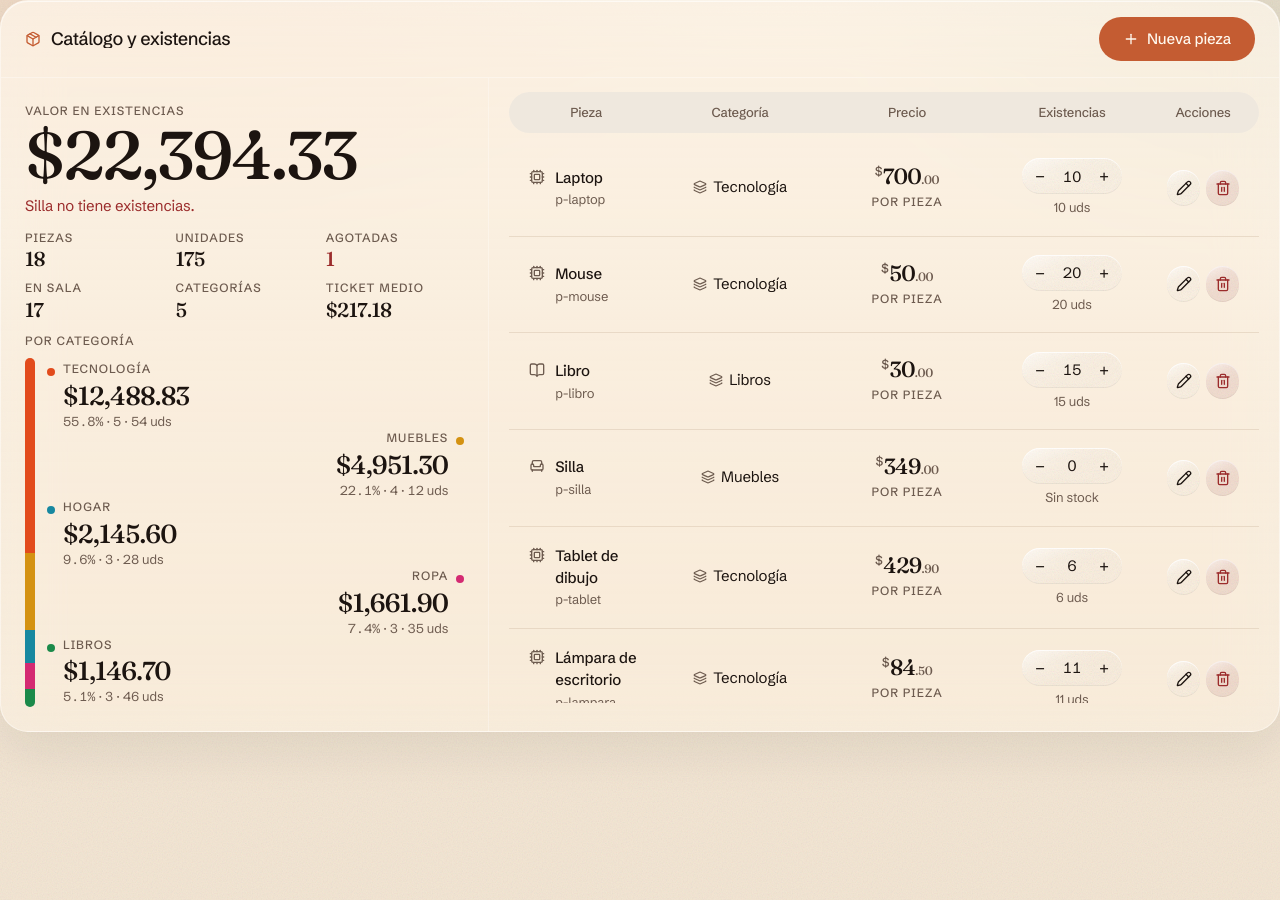
Scenario: ProductDesk › creates a piece that GET /products will expose
The image size is (1280, 900).
Expected: the text "p-laptop" is shown, 555,190 -> 605,209
Click the button "Nueva pieza" at (1177, 39), box 1099,17 -> 1255,61
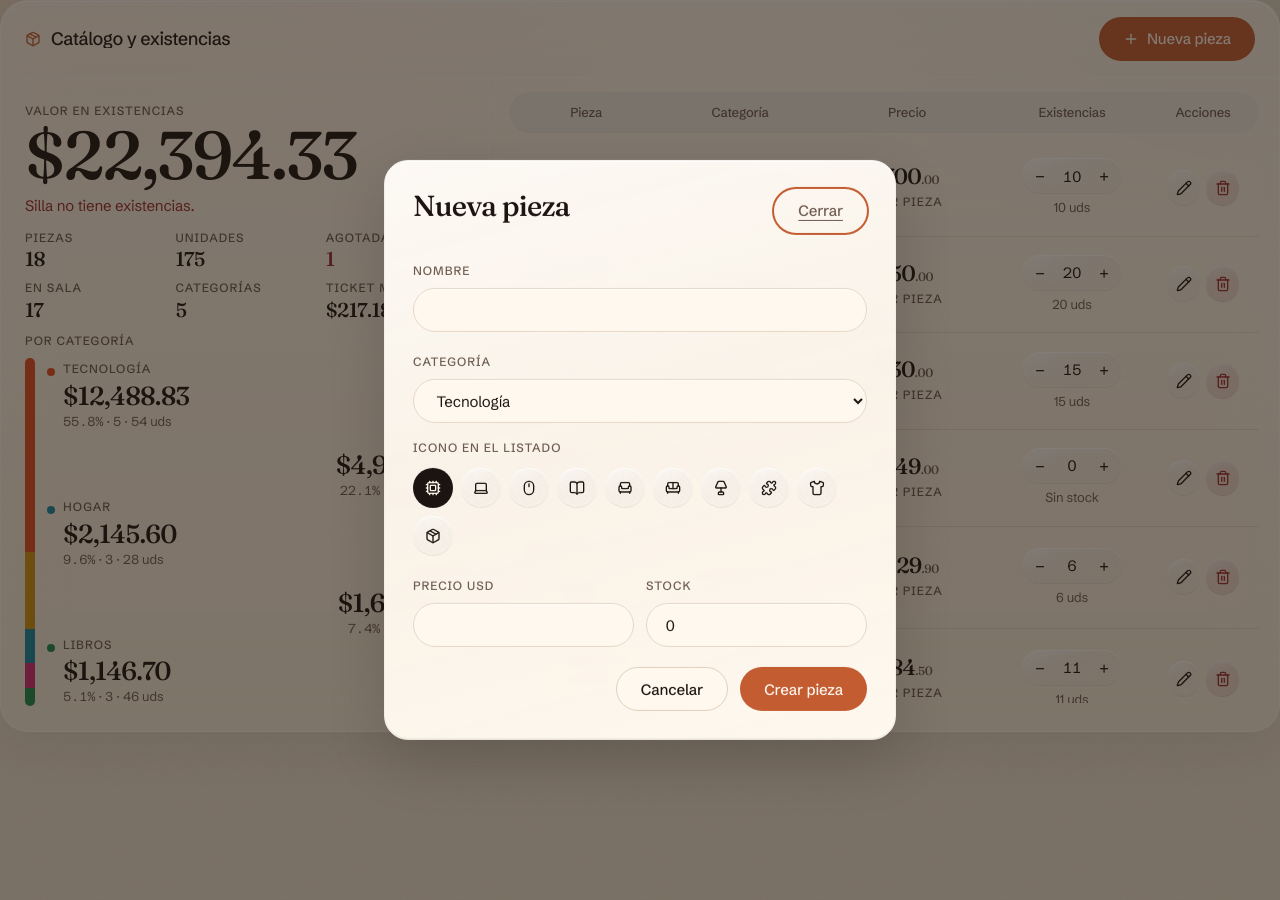
Type "Auriculares" into the field labelled "Nombre" at (640, 310), box 413,288 -> 867,332
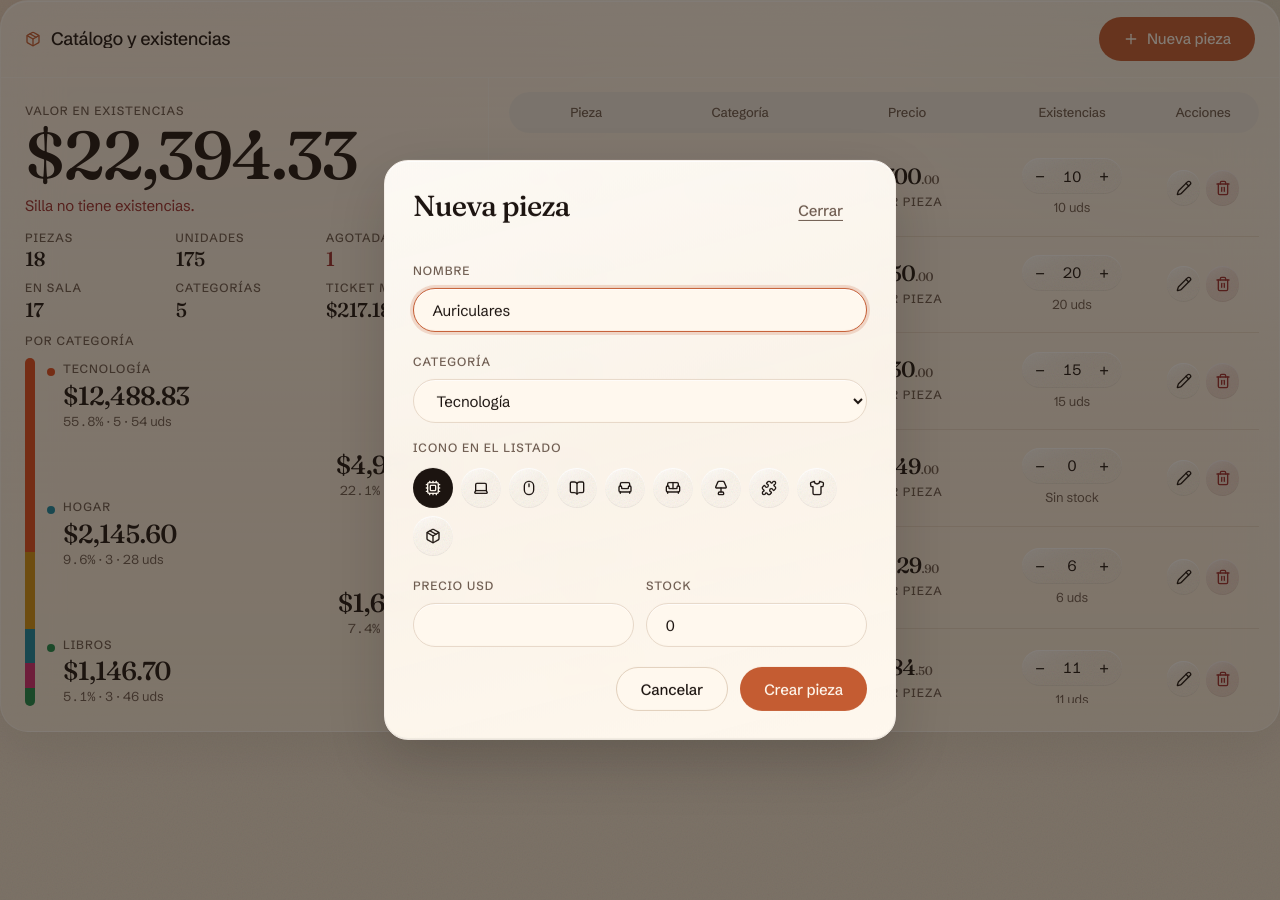
Type "80" into the number field labelled "Precio USD" at (524, 625), box 413,603 -> 634,647
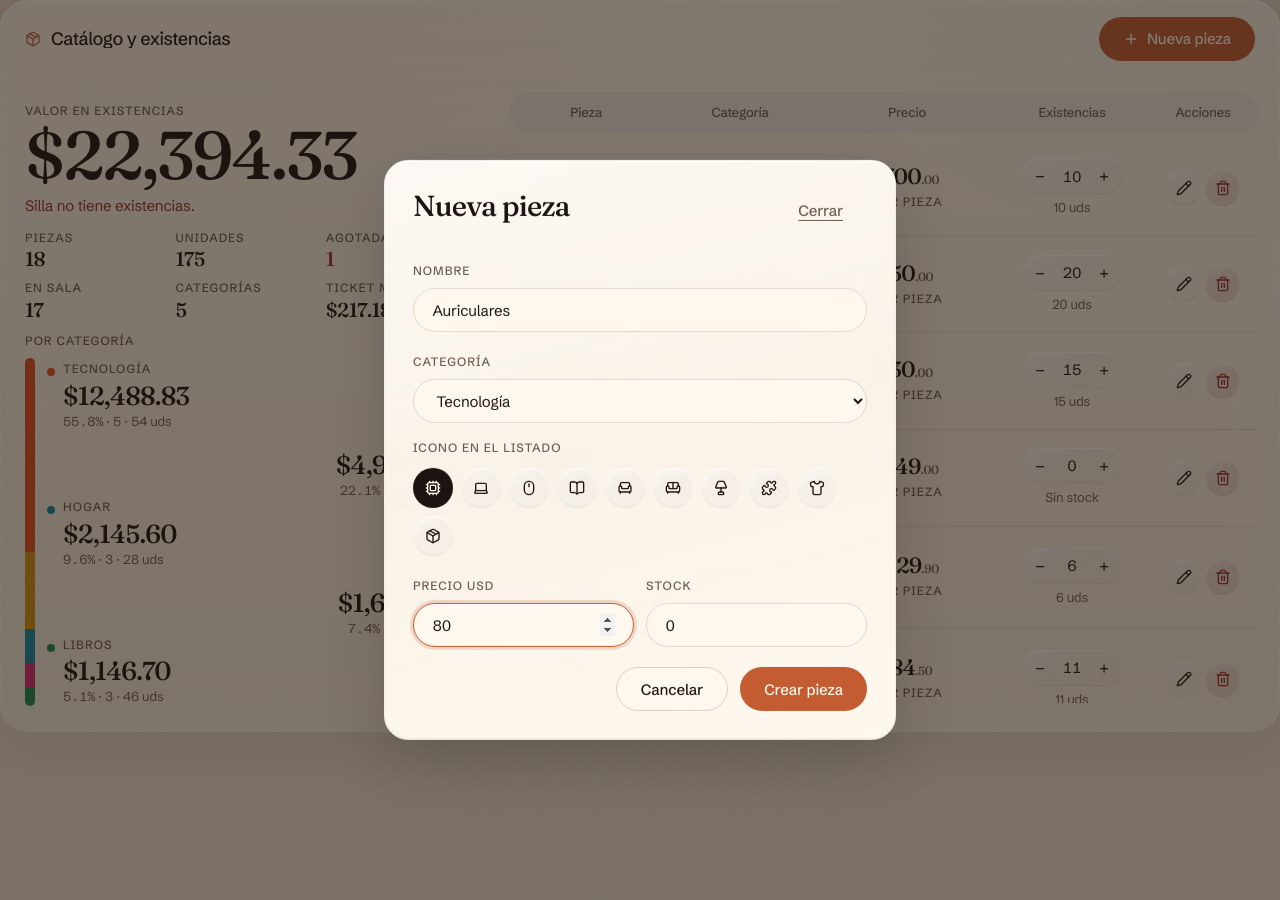
Replace the text in the number field labelled "Stock" with "4" at (756, 625), box 646,603 -> 867,647
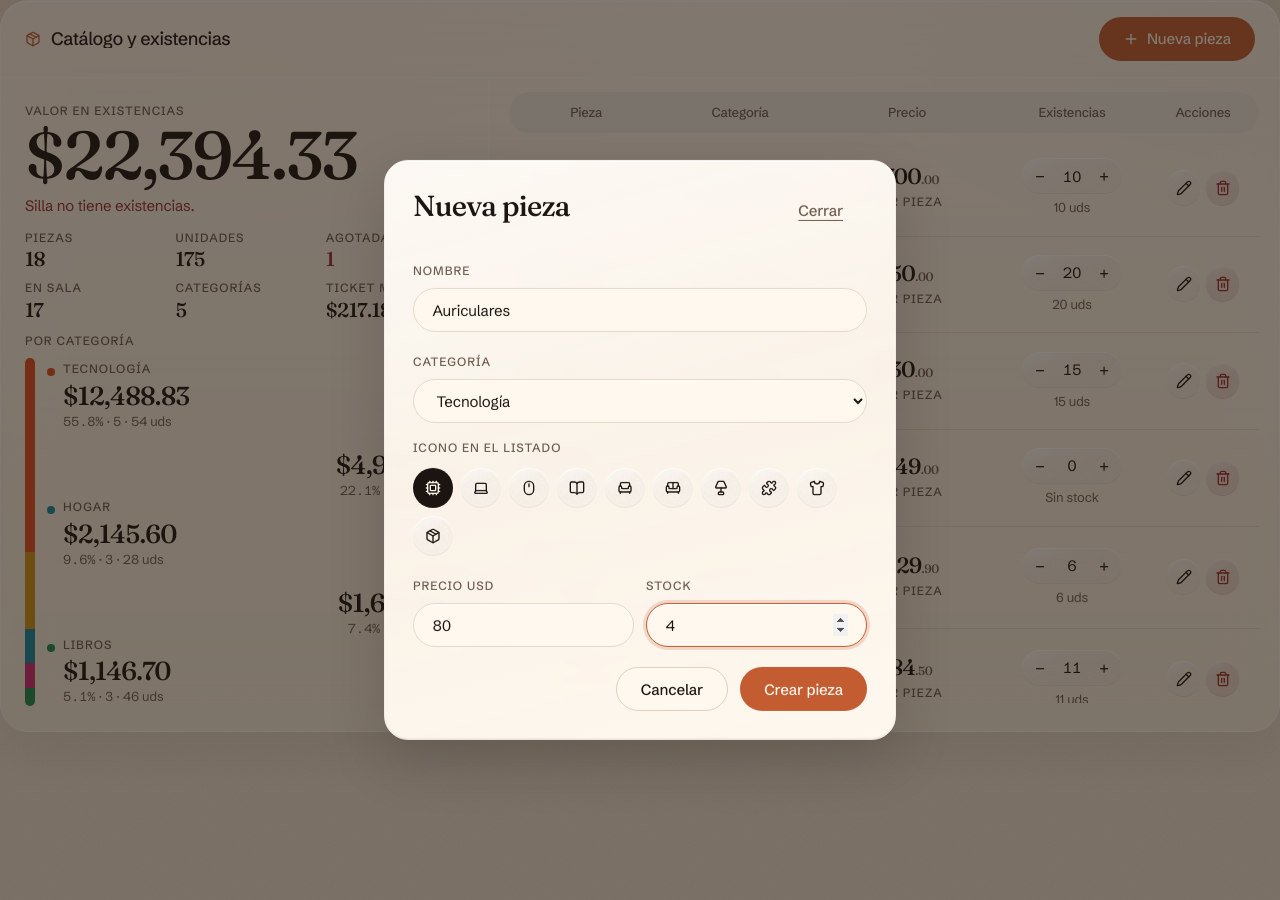
Click the button "Crear pieza" at (804, 689), box 740,667 -> 867,711
(page scrolled)
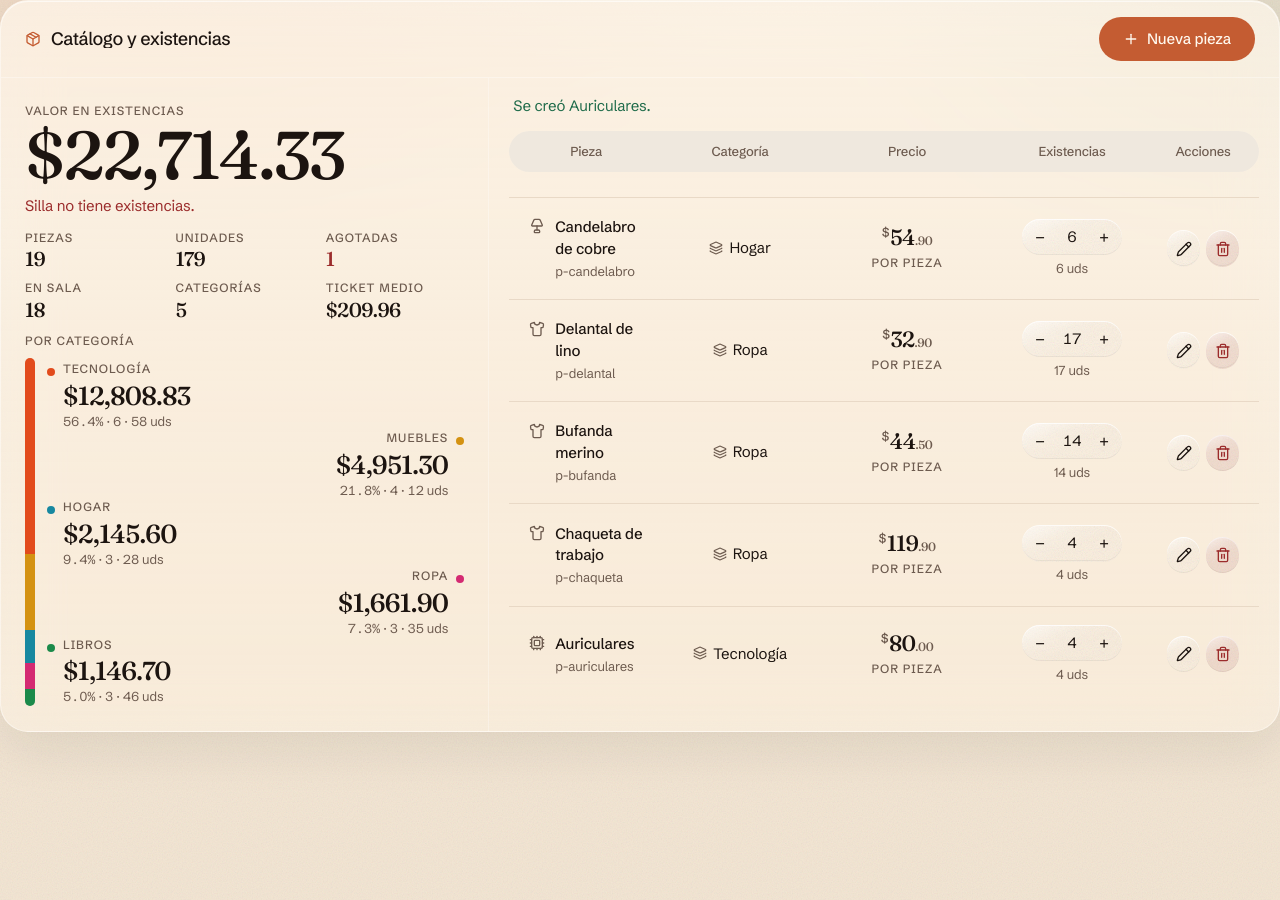
Expected: the text "Auriculares" is shown, 555,633 -> 635,655
Expected: the text "p-auriculares" is shown, 555,657 -> 635,676
